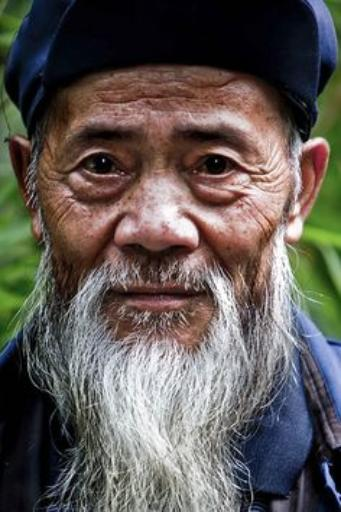left_eye: (186, 151, 248, 182)
left_lip_corner: (193, 284, 212, 309)
right_eye: (72, 151, 130, 183)
right_lip_corner: (112, 286, 135, 310)
